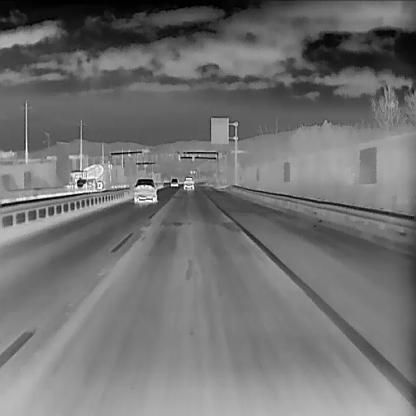car: (67, 162, 104, 193), (132, 177, 157, 203), (73, 178, 90, 192), (85, 177, 98, 193), (182, 177, 194, 190), (169, 177, 178, 186)
